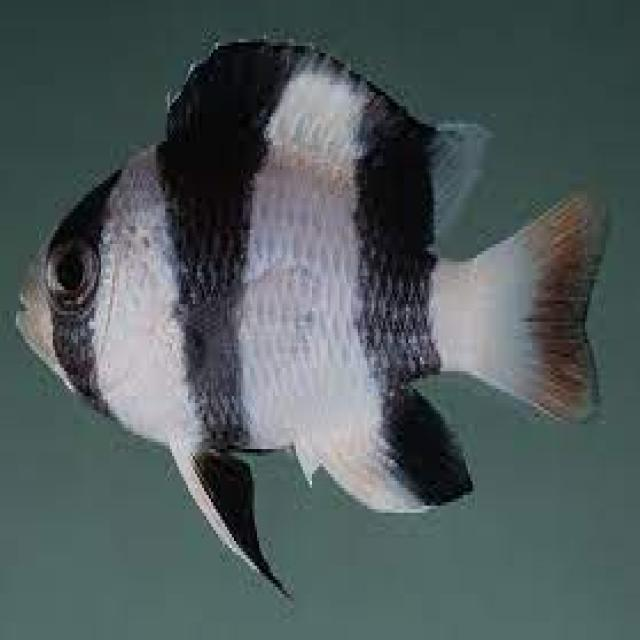ThreeStripedDamselfish: (11, 39, 614, 598)
